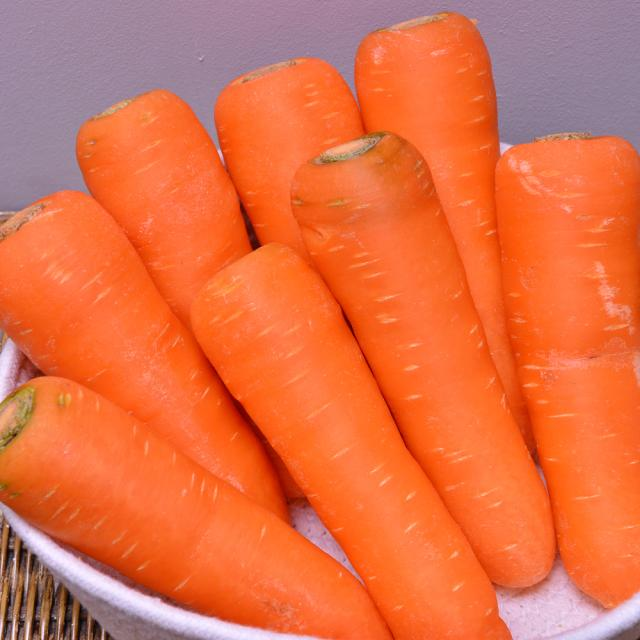carrot: (186, 241, 512, 637), (289, 128, 560, 593), (1, 374, 397, 637), (1, 189, 296, 531), (493, 130, 640, 610)
